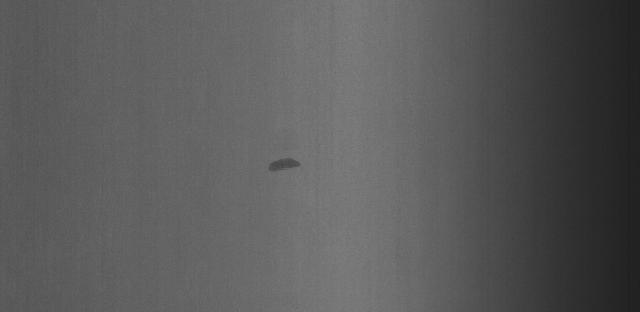oil_spot: (263, 147, 312, 182)
